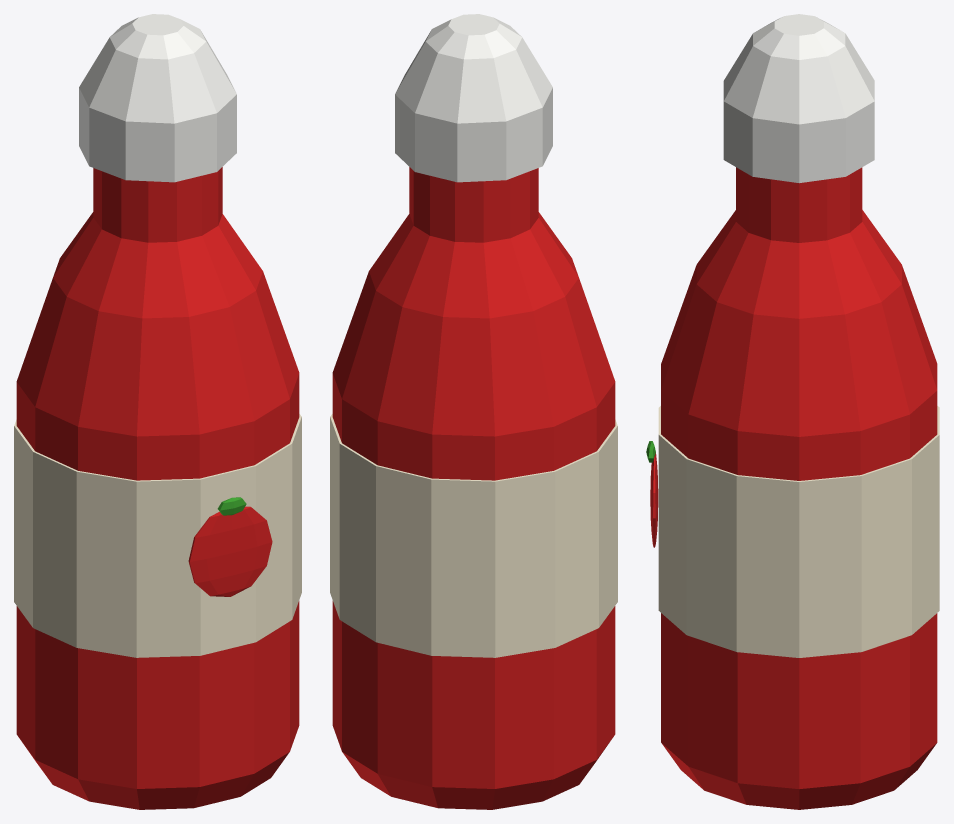
The model's file is ketchup_bottle.glb.
The picture shows the model from 3 angles, left to right: view 1: azimuth 30°, elevation 25°; view 2: azimuth 150°, elevation 25°; view 3: azimuth 270°, elevation 25°; orthographic projection.
Parts seen in each view (by area): view 1: KetchupBottle; view 2: KetchupBottle; view 3: KetchupBottle.
Boxes of the visible parts, <box> form: KetchupBottle: <box>14,14,301,809</box>; KetchupBottle: <box>330,14,617,809</box>; KetchupBottle: <box>646,14,939,809</box>.
Bounding box in the file's own units: 3.56 × 10 × 3.63.
